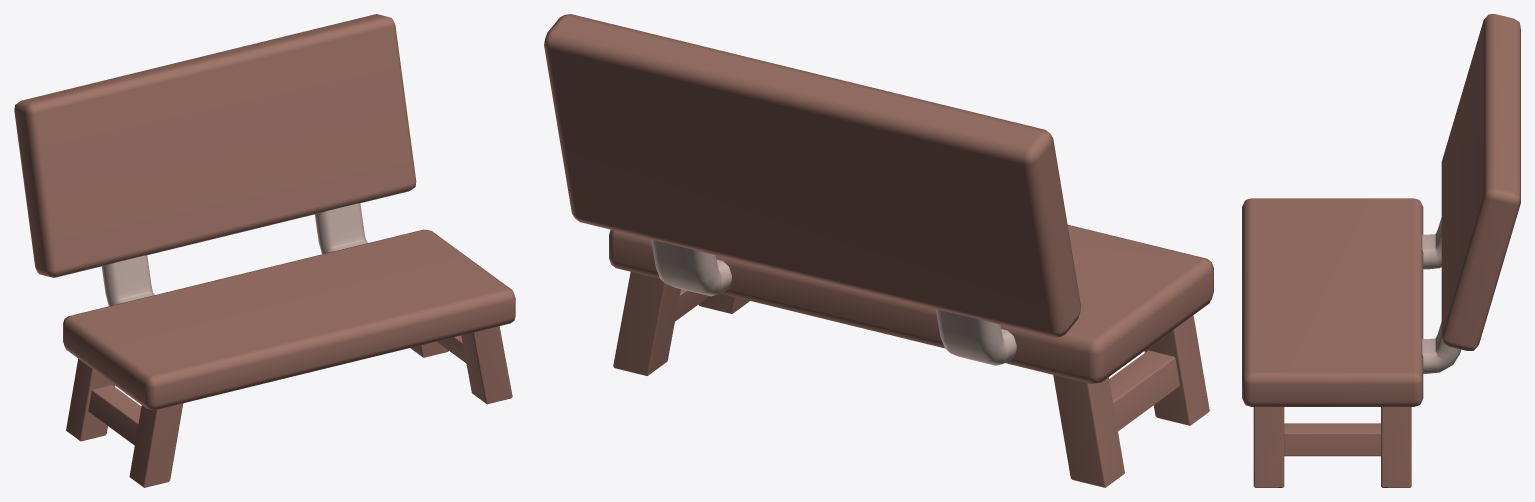
The model's file is Town_9_Bench_1.glb.
3 views of the same model, side by side, from view 1: azimuth 30°, elevation 25°; view 2: azimuth 150°, elevation 25°; view 3: azimuth 270°, elevation 25° (orthographic). The views are drawn at different scales.
Parts seen in each view (by area): view 1: Town_9_Bench_1; view 2: Town_9_Bench_1; view 3: Town_9_Bench_1.
Boxes of the visible parts, x1,y1,x2,y2 form: Town_9_Bench_1: [14, 14, 515, 487]; Town_9_Bench_1: [544, 14, 1213, 487]; Town_9_Bench_1: [1242, 14, 1520, 487].
Bounding box in the file's own units: 1.9 × 1.46 × 1.24.
Materials: 1 (1 with a texture image).
